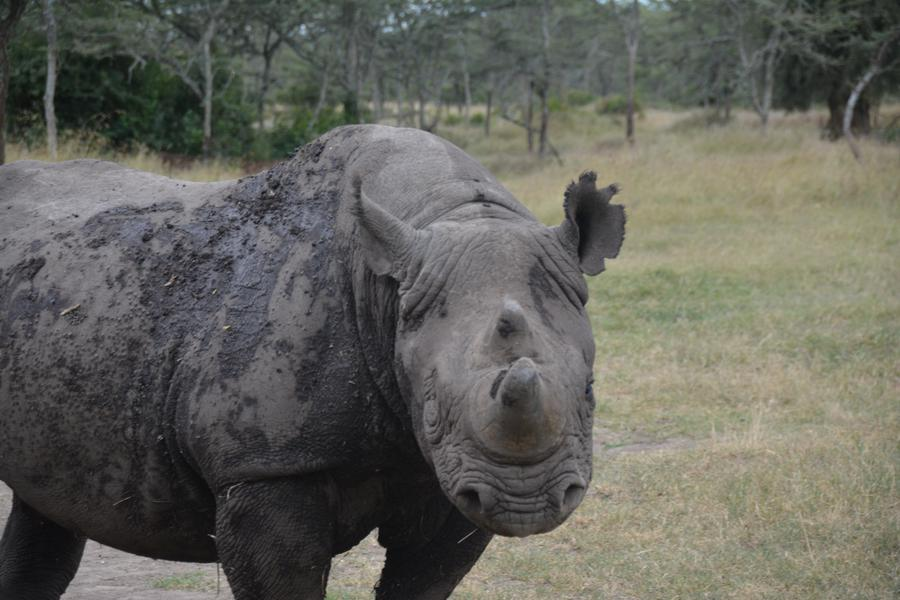rhino: (27, 121, 600, 549)
